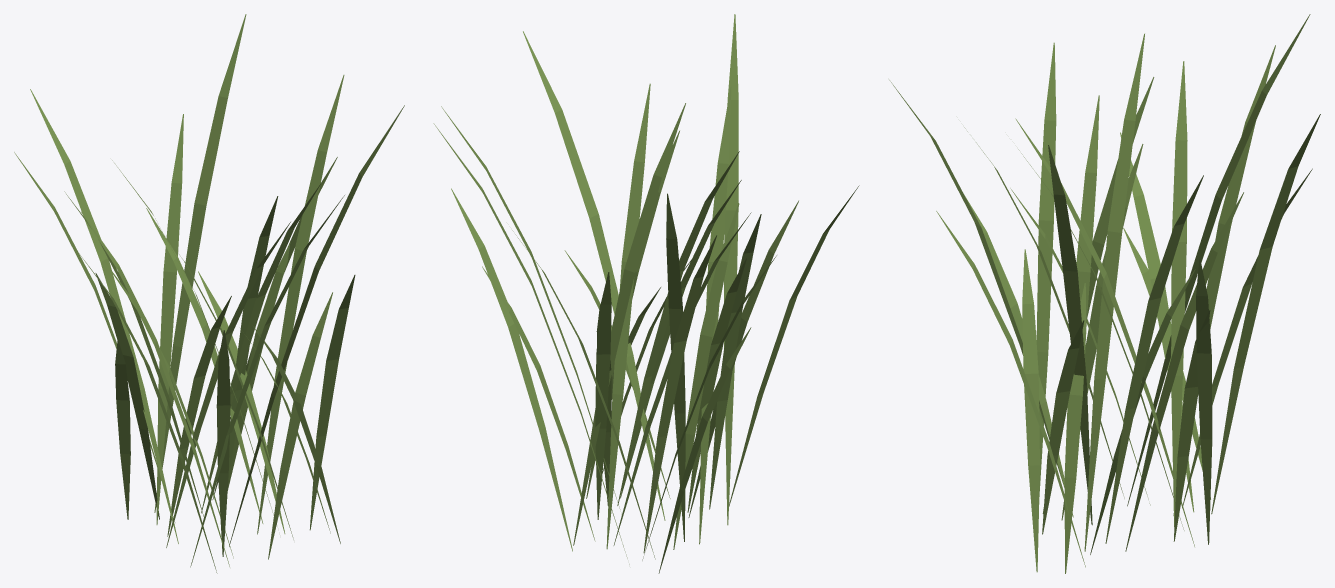
The model's file is tall_grass_lod0.glb.
3 views of the same model, side by side, from view 1: azimuth 30°, elevation 25°; view 2: azimuth 150°, elevation 25°; view 3: azimuth 270°, elevation 25° (orthographic). The views are drawn at different scales.
Parts seen in each view (by area): view 1: Leaves; view 2: Leaves; view 3: Leaves.
Boxes of the visible parts, left/top/right/bottom form: Leaves: left=14, top=14, right=404, bottom=573; Leaves: left=433, top=14, right=859, bottom=573; Leaves: left=889, top=14, right=1320, bottom=573.
Bounding box in the file's own units: 0.7043 × 0.8607 × 0.7091.
